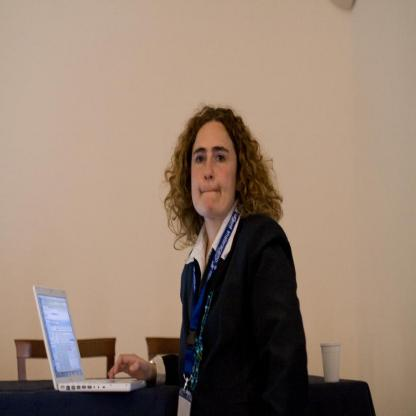board: (32, 285, 146, 391)
